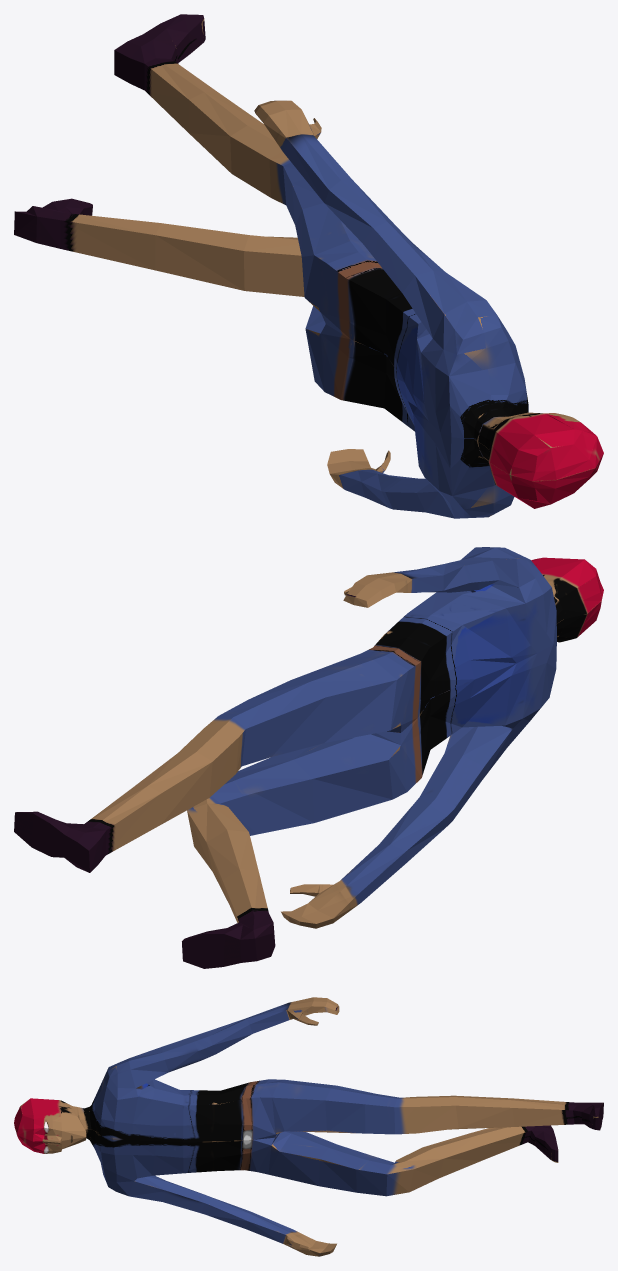
File: mirrorman_000016.obj
3 views of the same model, one above another, from view 1: azimuth 30°, elevation 25°; view 2: azimuth 150°, elevation 25°; view 3: azimuth 270°, elevation 25° (orthographic). The views are drawn at different scales.
Visible parts, largest first — view 1: mirrorman_Cube.001_Material.001; view 2: mirrorman_Cube.001_Material.001; view 3: mirrorman_Cube.001_Material.001.
Part boxes in pixels (bbox=[...]): mirrorman_Cube.001_Material.001: bbox=[14, 14, 603, 518]; mirrorman_Cube.001_Material.001: bbox=[14, 547, 603, 968]; mirrorman_Cube.001_Material.001: bbox=[14, 997, 603, 1256].
Size of the model in its own units: 0.5193 by 0.8156 by 1.88.
